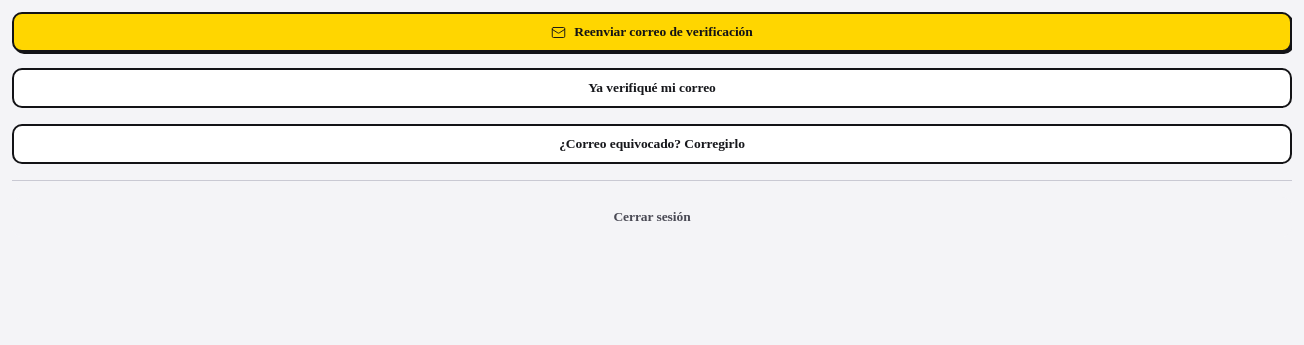
Test: ActivationPage — correcting a mistyped email (#1245) › renders the backend's error message inline and keeps the field open on failure
Click the button "¿Correo equivocado? Corregirlo" at {"x": 652, "y": 144}, box [12,124,1292,164]
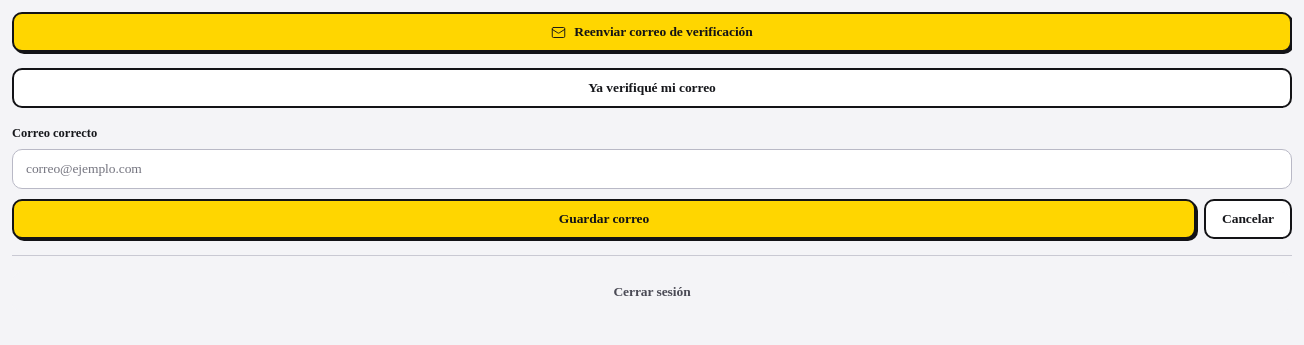
Type "otro@cataclub.com" into the field labelled "Correo correcto" at {"x": 652, "y": 169}, box [12,149,1292,189]
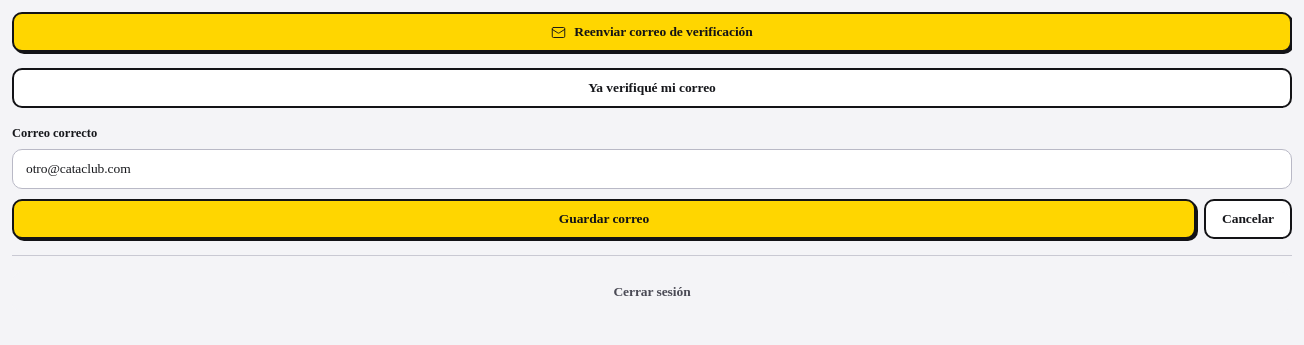
Click the button "Guardar correo" at {"x": 604, "y": 219}, box [12,199,1196,239]
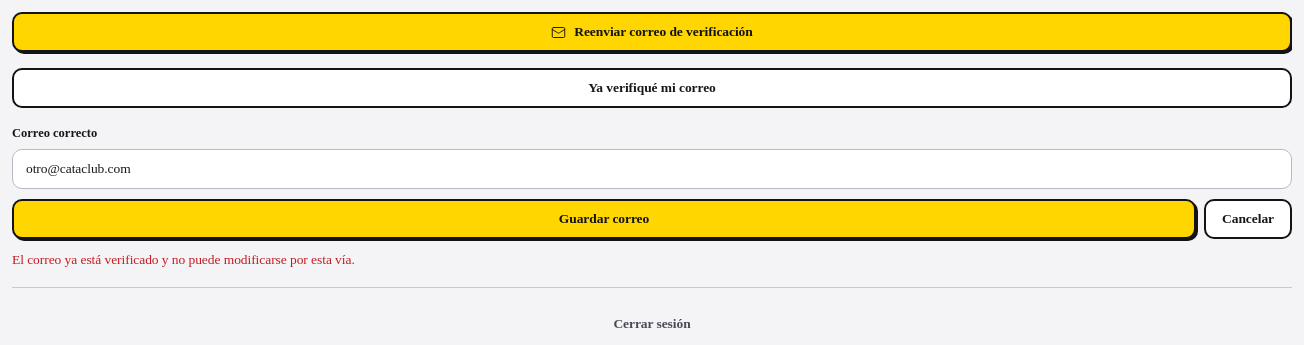
Expected: the message reads "El correo ya está verificado y no puede modificarse por esta vía.", [12,252,355,267]
